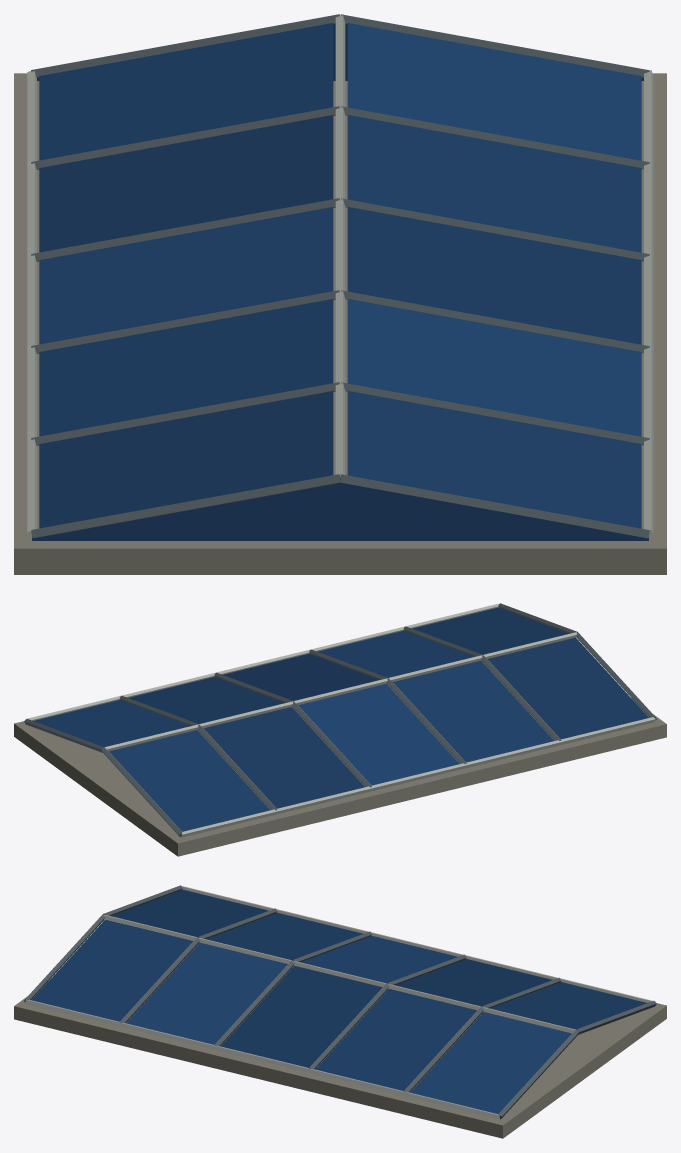
Rendered from skylight2.glb.
3 renders of one model, top to bottom at view 1: azimuth 30°, elevation 25°; view 2: azimuth 150°, elevation 25°; view 3: azimuth 270°, elevation 25°, orthographic. The views are drawn at different scales.
Parts seen in each view (by area): view 1: skylight2; view 2: skylight2; view 3: skylight2.
Boxes of the visible parts, x1,y1,x2,y2 form: skylight2: (14,14,666,574); skylight2: (14,603,666,856); skylight2: (14,885,666,1138).
Size of the model in its own units: 62.18 by 5.71 by 71.69.
